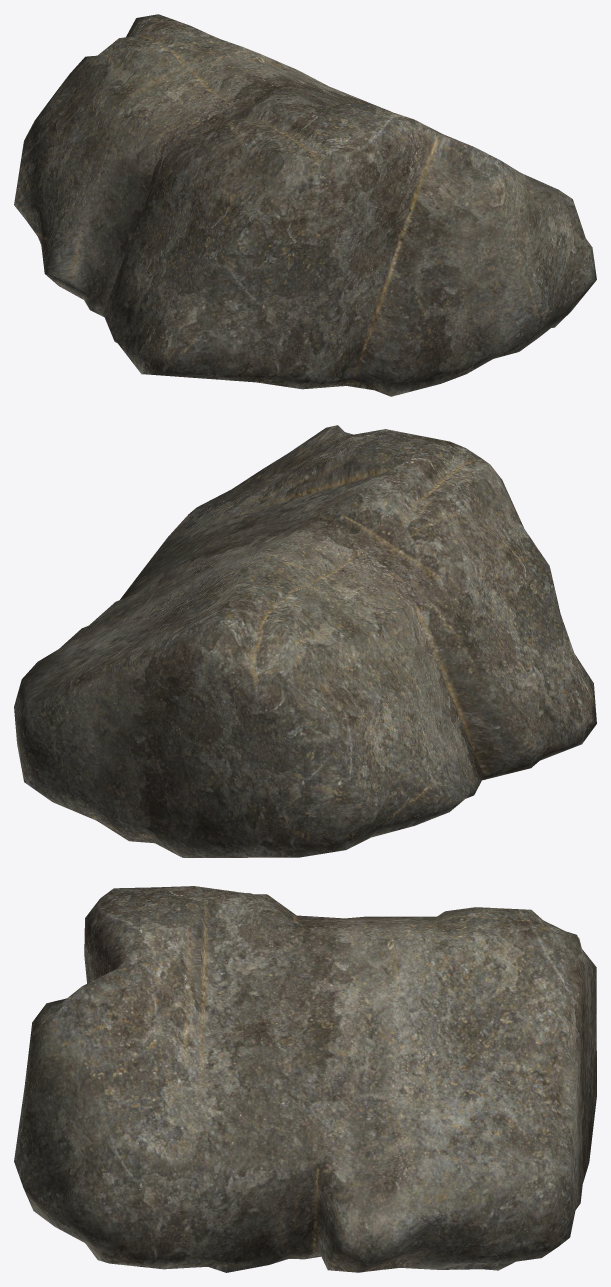
Rendered from Rock_6.fbx.
3 views of the same model, one above another, from view 1: azimuth 30°, elevation 25°; view 2: azimuth 150°, elevation 25°; view 3: azimuth 270°, elevation 25° (orthographic). The views are drawn at different scales.
Parts seen in each view (by area): view 1: Rock_6; view 2: Rock_6; view 3: Rock_6.
Part boxes in pixels (x1,y1,x2,y2): Rock_6: (14,14,596,396); Rock_6: (14,425,596,857); Rock_6: (14,886,596,1272).
Bounding box in the file's own units: 432 × 264 × 464.
Materials: 1 (1 with a texture image).
